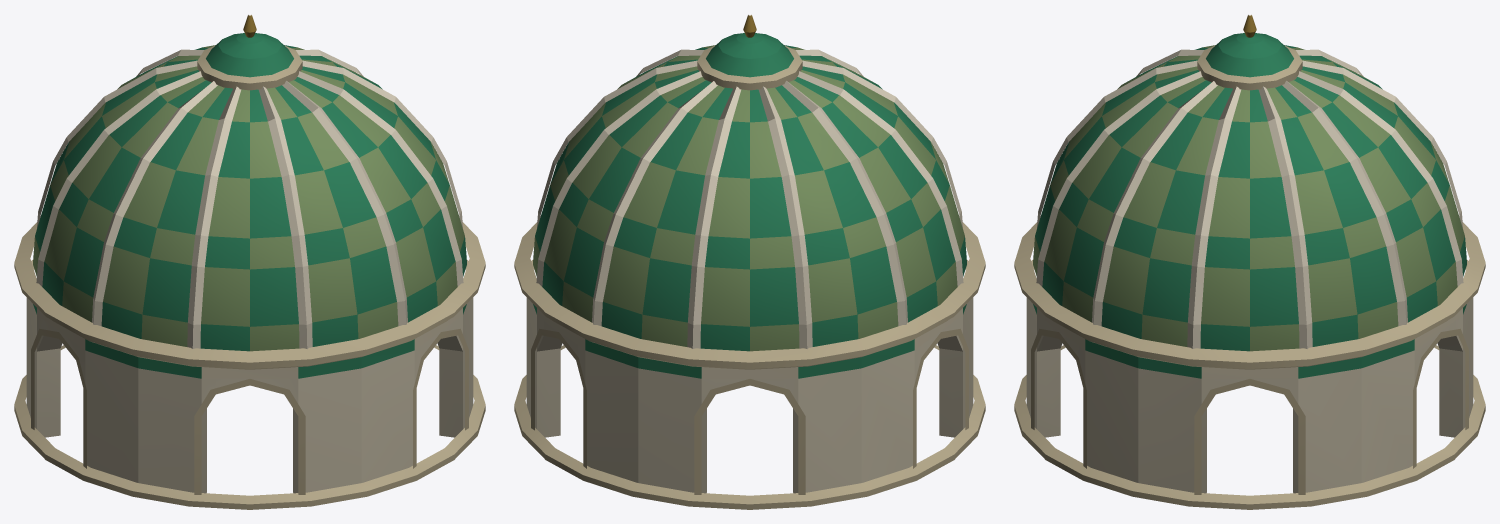
The model's file is dome.whole_12.green.glb.
The picture shows the model from 3 angles, left to right: view 1: azimuth 30°, elevation 25°; view 2: azimuth 150°, elevation 25°; view 3: azimuth 270°, elevation 25°; orthographic projection.
Visible parts, largest first — view 1: dome_whole_12_green; view 2: dome_whole_12_green; view 3: dome_whole_12_green.
Boxes of the visible parts, x1,y1,x2,y2 form: dome_whole_12_green: [14, 15, 485, 509]; dome_whole_12_green: [514, 15, 985, 509]; dome_whole_12_green: [1014, 15, 1485, 509].
Size of what is drawn, in the model's own units: 7.6 by 7.03 by 7.6.
